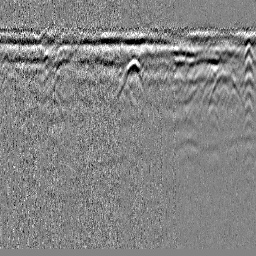cavity: (116, 57, 148, 100)
